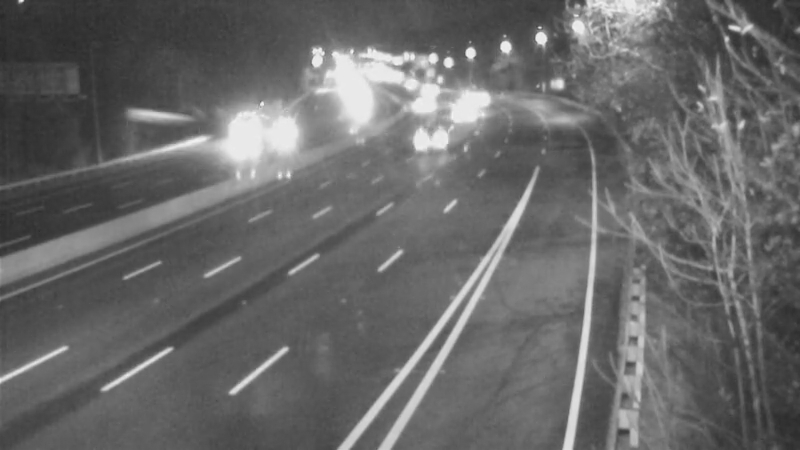vehicle: (448, 68, 498, 118), (397, 83, 447, 133), (438, 91, 488, 141), (403, 116, 453, 166), (227, 108, 277, 158)
